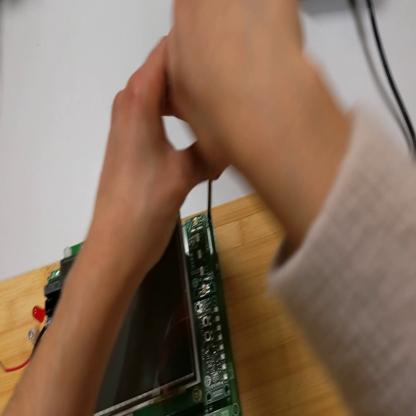hand: (92, 40, 221, 279), (160, 3, 304, 160)
low voltage board: (3, 217, 242, 416)
screwdriver-: (206, 179, 216, 229)
working area: (3, 194, 352, 414)
